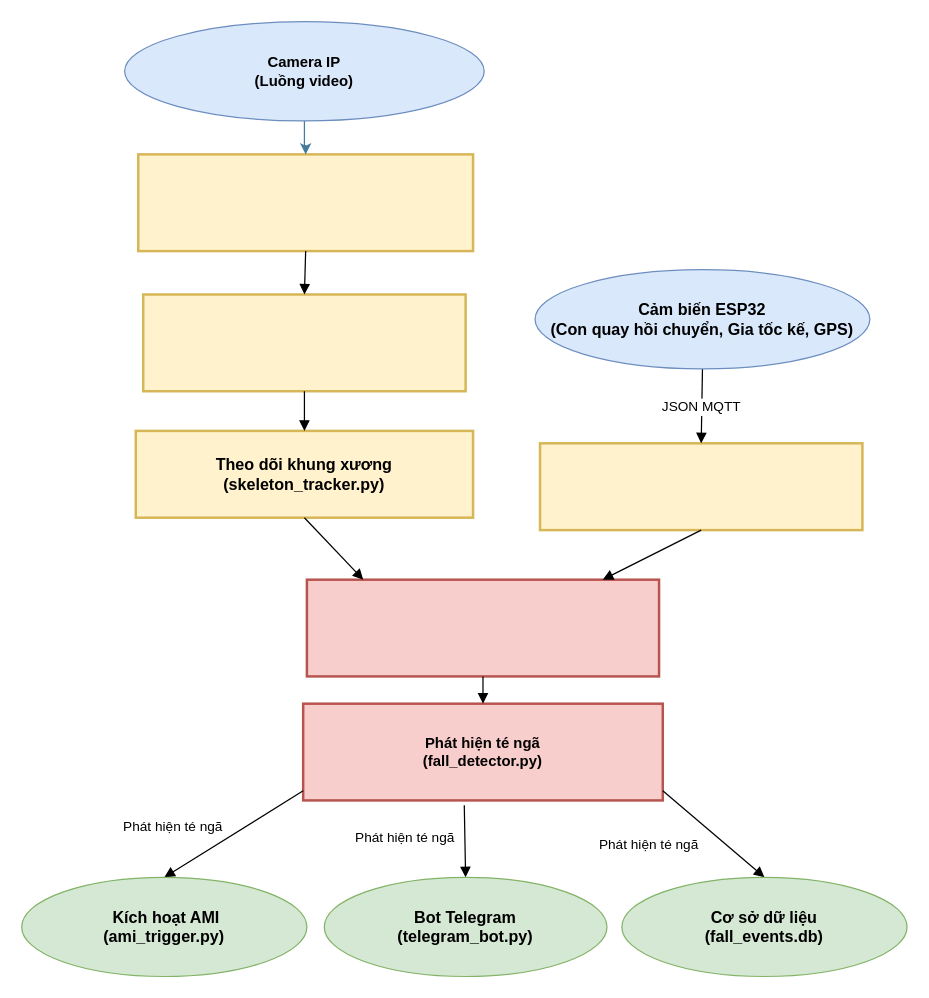
This 929x998 diagram has some shape labels left out. The box of each missing label's shape, as (x1, y1, x2, y2) in pixels:
Bộ xử lý đa luồng (detection_processor.py): (305, 578, 660, 677)
MQTT Client (mqtt_client.py): (538, 441, 863, 531)
Phát hiện đối tượng (human_detector.py): (136, 153, 474, 252)
Theo dõi người (person_tracker.py): (141, 293, 466, 392)
